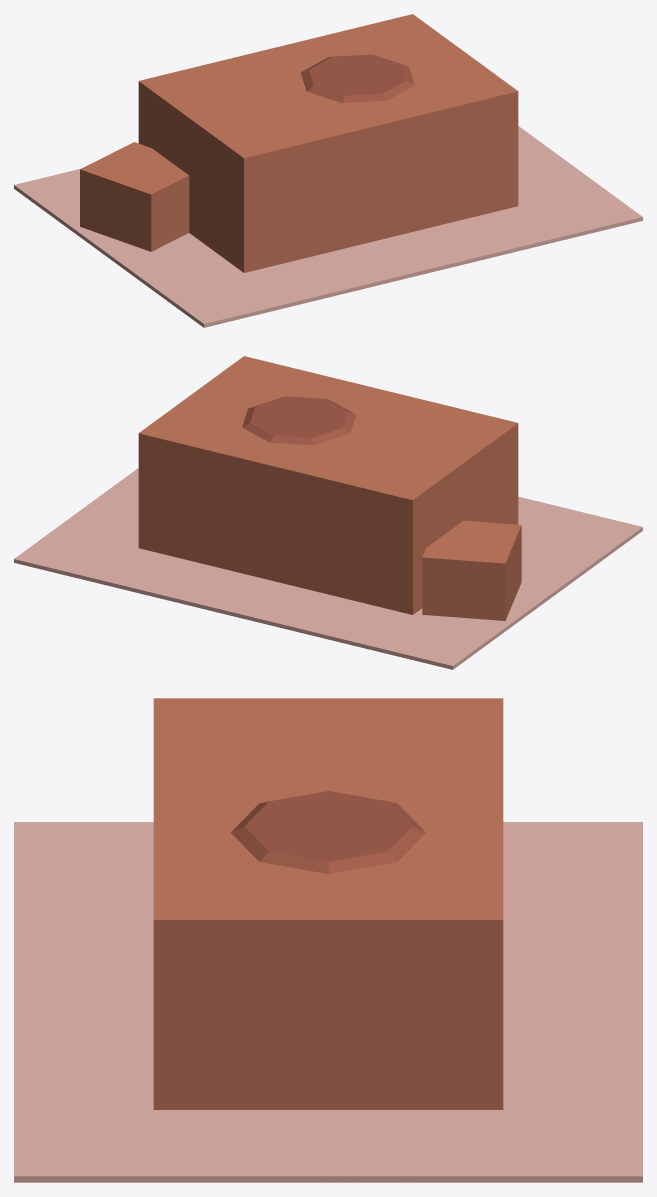
Rendered from prop-bole-cake.fbx.
3 renders of one model, top to bottom at view 1: azimuth 30°, elevation 25°; view 2: azimuth 150°, elevation 25°; view 3: azimuth 270°, elevation 25°, orthographic. The views are drawn at different scales.
Parts seen in each view (by area): view 1: prop-bole-cake; view 2: prop-bole-cake; view 3: prop-bole-cake.
Boxes of the visible parts, left/top/right/bottom form: prop-bole-cake: left=14, top=14, right=642, bottom=327; prop-bole-cake: left=14, top=356, right=642, bottom=669; prop-bole-cake: left=14, top=698, right=642, bottom=1182.
Bounding box in the file's own units: 12 × 3.2 × 9.
